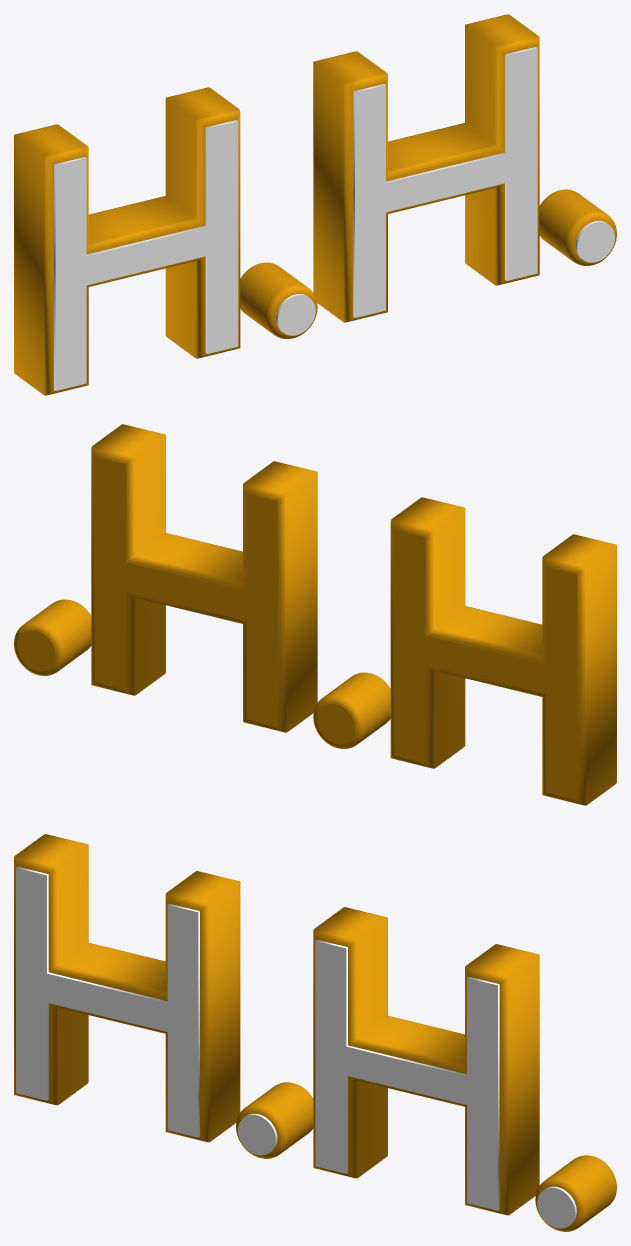
Rendered from highhat.fbx.
3 renders of one model, top to bottom at view 1: azimuth 30°, elevation 25°; view 2: azimuth 150°, elevation 25°; view 3: azimuth 330°, elevation 25°, orthographic.
Parts seen in each view (by area): view 1: Text, Text.001; view 2: Text; view 3: Text, Text.001.
Part boxes in pixels (x1,y1,x2,y2): Text: (14,14,616,395); Text.001: (54,47,614,390); Text: (14,424,616,805); Text: (14,834,616,1231); Text.001: (16,866,576,1228).
Bounding box in the file's own units: 181 × 73.1 × 20.92.
